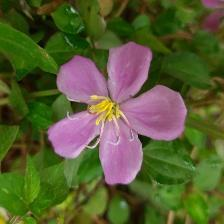malabar melastome: (48, 41, 190, 189)
